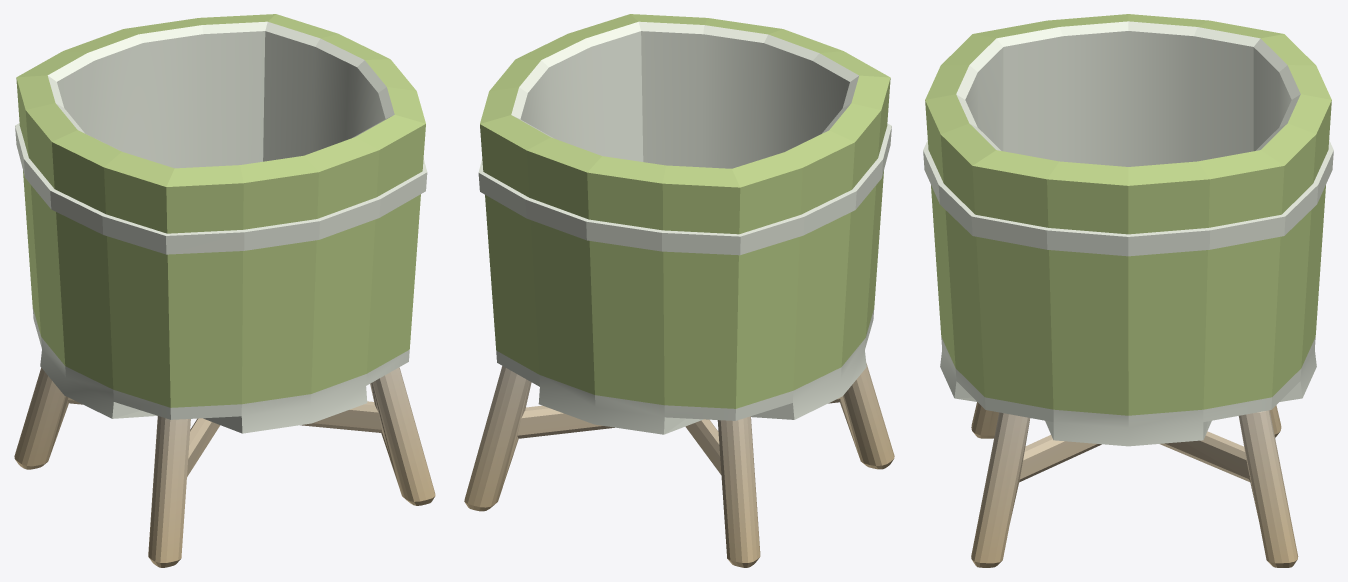
Rendered from PlantPot_15.fbx.
The picture shows the model from 3 angles, left to right: view 1: azimuth 30°, elevation 25°; view 2: azimuth 150°, elevation 25°; view 3: azimuth 270°, elevation 25°; orthographic projection. The views are drawn at different scales.
Visible parts, largest first — view 1: PlantPot_15; view 2: PlantPot_15; view 3: PlantPot_15.
Boxes of the visible parts, x1,y1,x2,y2 form: PlantPot_15: (14,14,435,567); PlantPot_15: (464,14,894,567); PlantPot_15: (923,14,1333,567).
Size of the model in its own units: 36.59 by 39.62 by 36.59.
